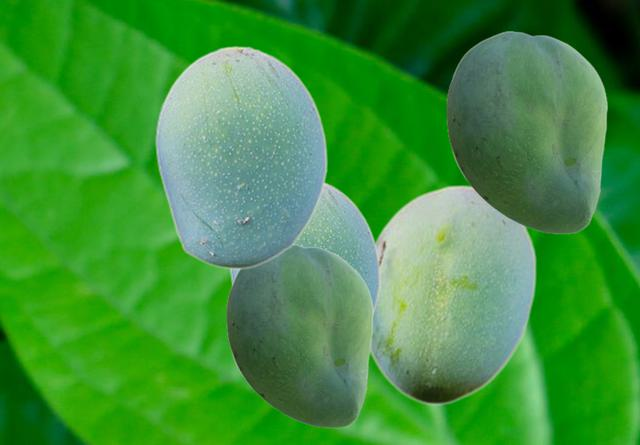green_mango: (154, 45, 327, 269), (370, 184, 536, 404), (446, 31, 606, 233), (226, 243, 372, 427), (228, 180, 380, 316)
